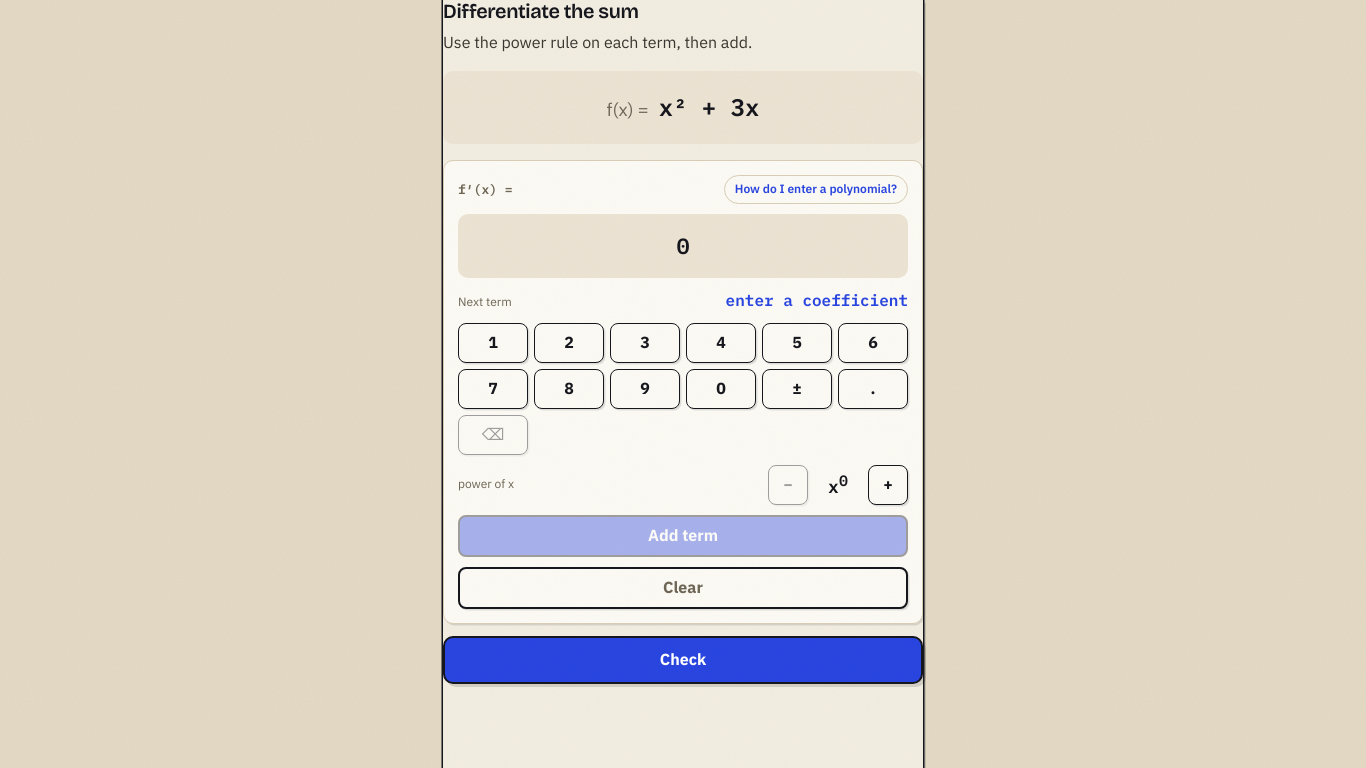
Test: PolynomialDerivativeSlide › flags a wrong answer red and does not advance
Click the button named "digit 9".
click(645, 389)  # box x1=610 y1=369 x2=680 y2=409
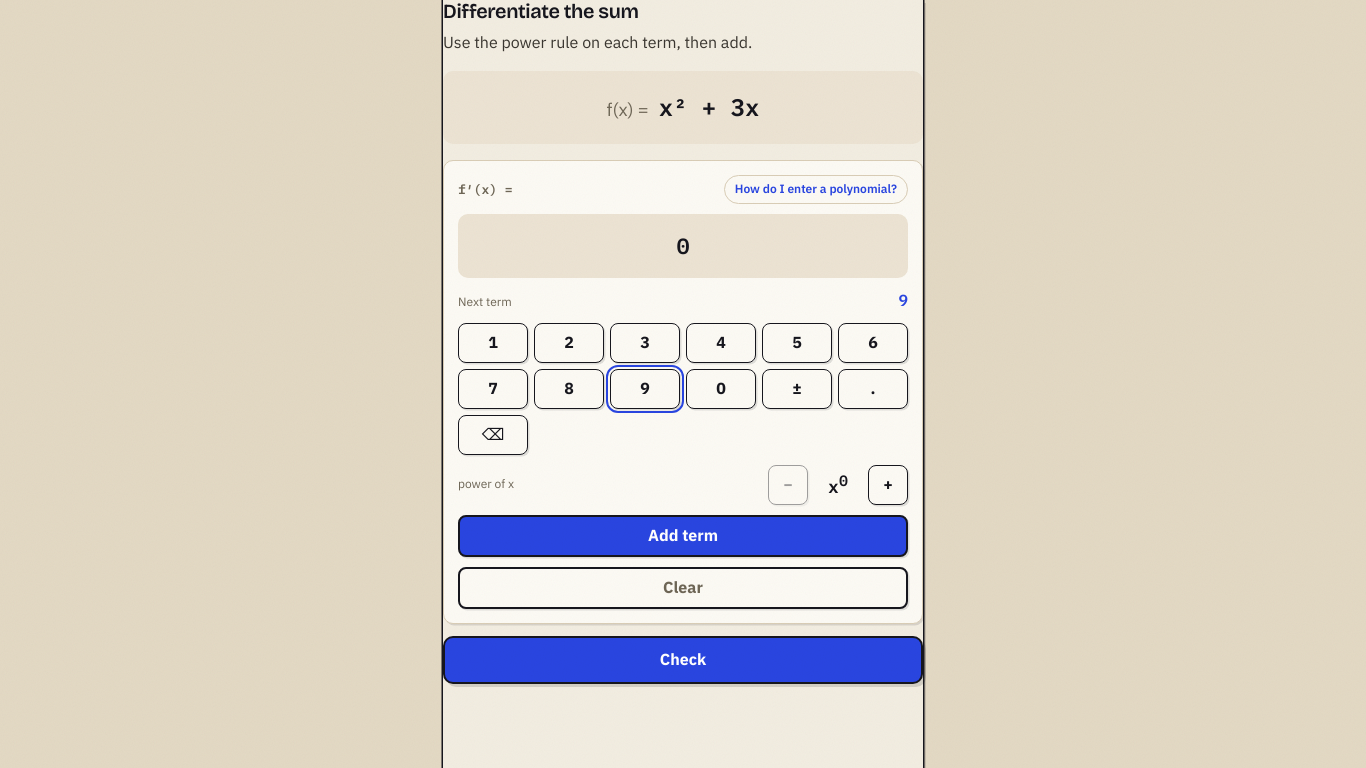
Click the button named "increase power".
click(888, 485)  # box x1=868 y1=465 x2=908 y2=505
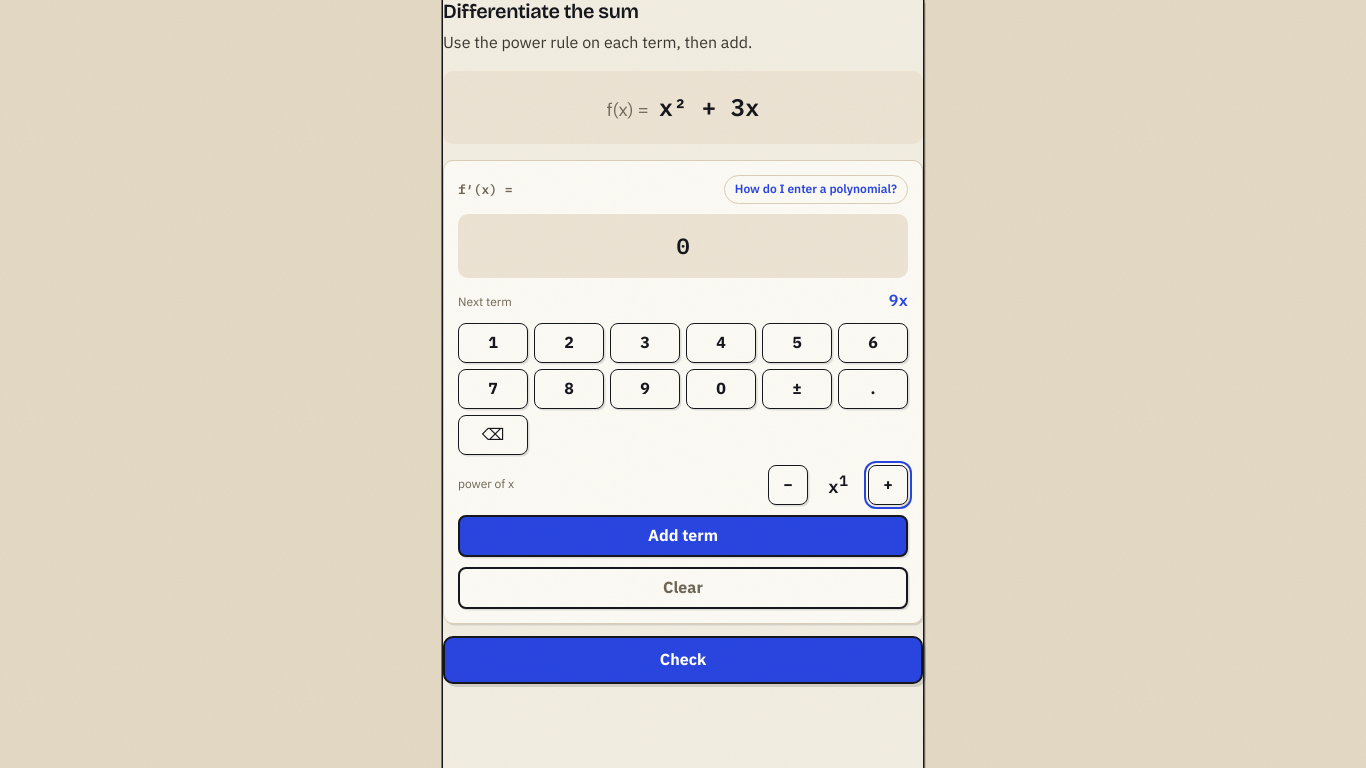
Click the button "Add term".
click(683, 536)  # box x1=458 y1=515 x2=908 y2=557
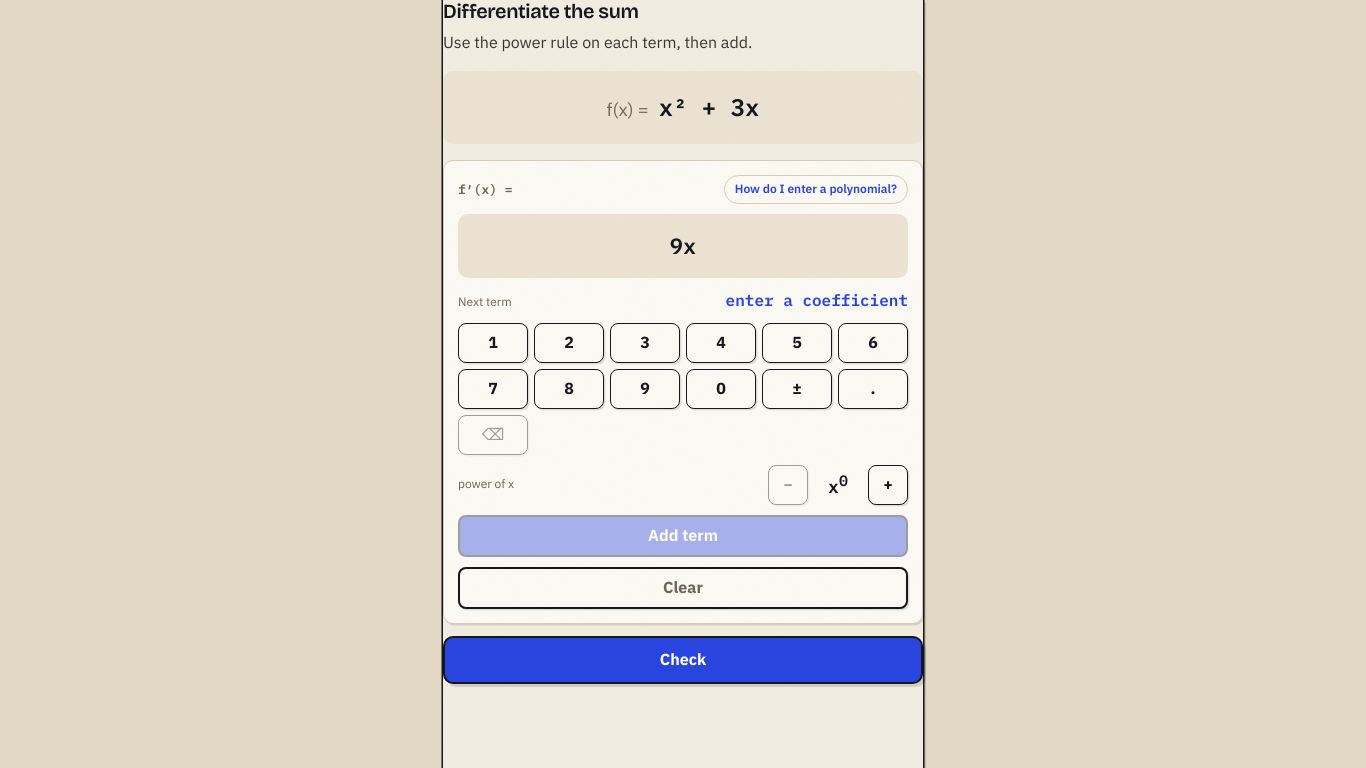
Click the button "Check".
click(683, 660)  # box x1=443 y1=636 x2=923 y2=684
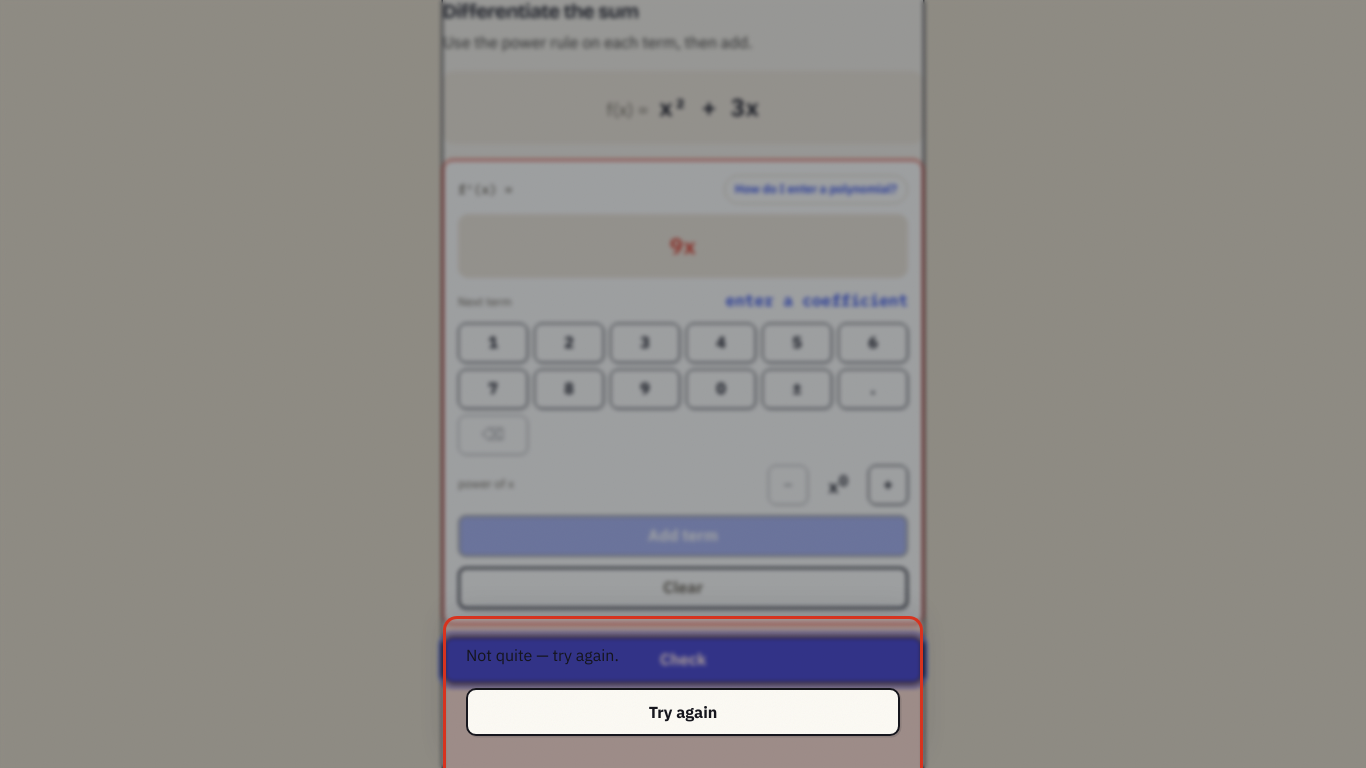
Check: the text "Not quite — try again." is shown, box x1=466 y1=645 x2=619 y2=665
